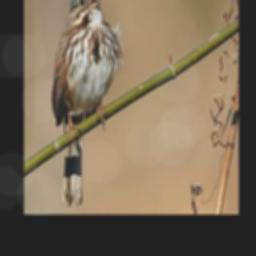Sparrow: (50, 0, 124, 207)
